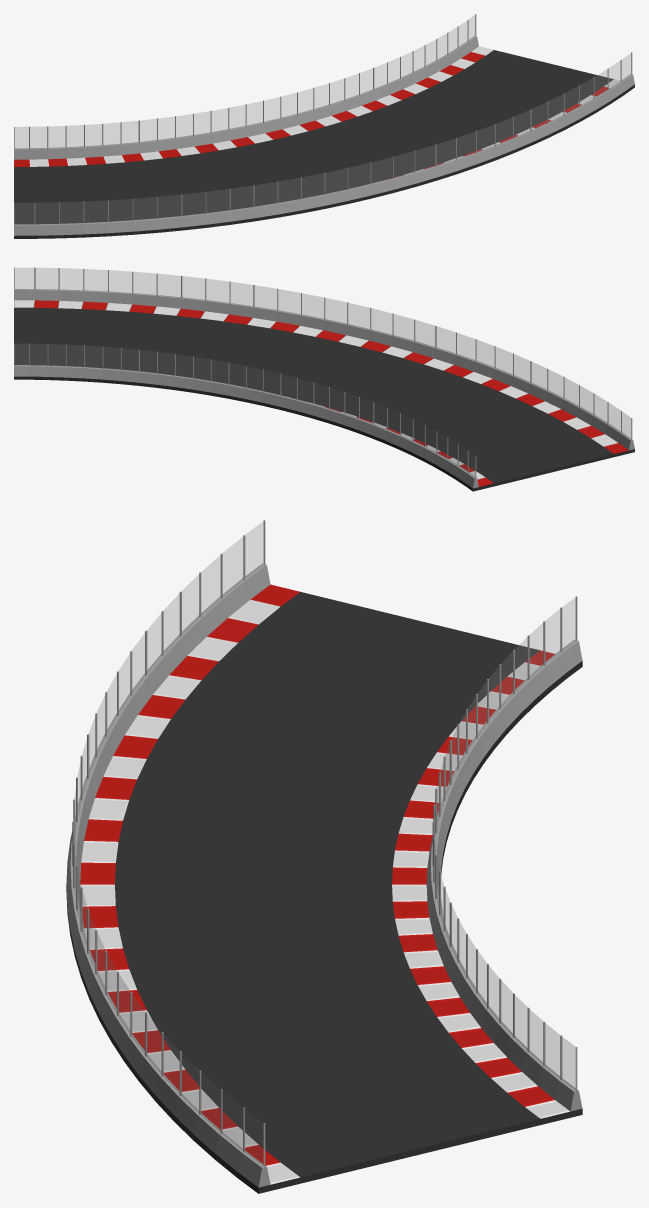
File: track_curve_left_wide_borders_low.glb
3 renders of one model, top to bottom at view 1: azimuth 30°, elevation 25°; view 2: azimuth 150°, elevation 25°; view 3: azimuth 270°, elevation 25°, orthographic. The views are drawn at different scales.
Visible parts, largest first — view 1: CurveLeftWide.002; view 2: CurveLeftWide.002; view 3: CurveLeftWide.002.
Part boxes in pixels (<box>): CurveLeftWide.002: <box>14,14,634,238</box>; CurveLeftWide.002: <box>14,267,634,491</box>; CurveLeftWide.002: <box>66,520,582,1193</box>.
Size of the model in its own units: 41.4 by 2.2 by 14.9.
